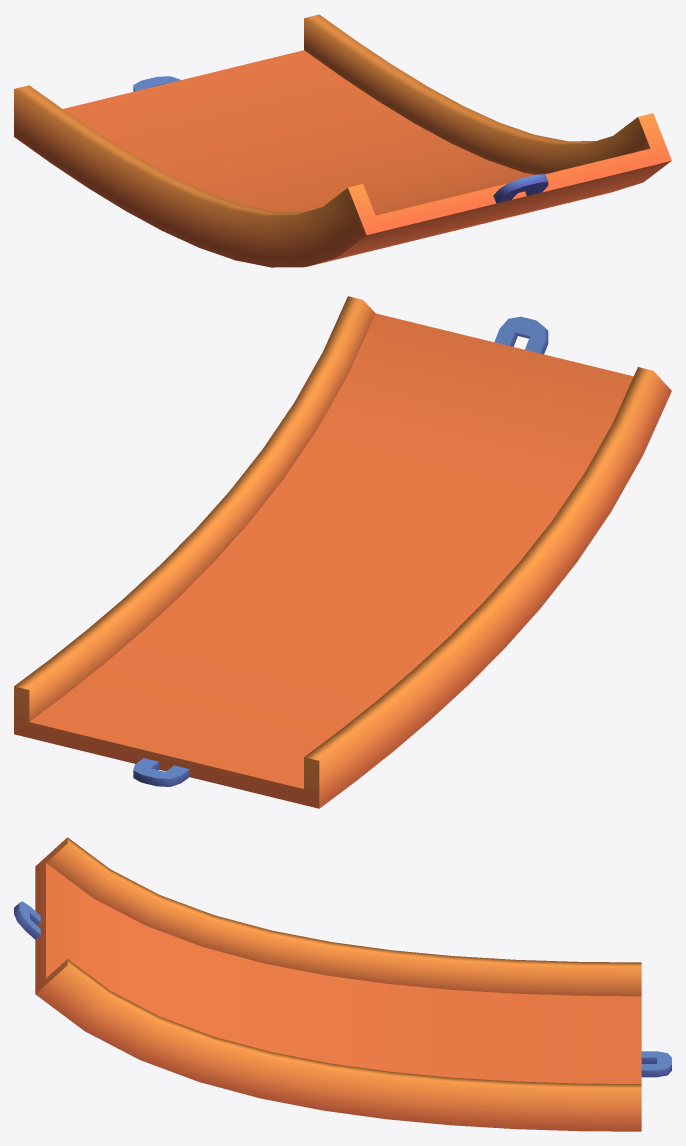
The model's file is track-wide-straight-hill-beginning.glb.
3 renders of one model, top to bottom at view 1: azimuth 30°, elevation 25°; view 2: azimuth 150°, elevation 25°; view 3: azimuth 270°, elevation 25°, orthographic. The views are drawn at different scales.
Parts seen in each view (by area): view 1: track-wide-straight-hill-beginning; view 2: track-wide-straight-hill-beginning; view 3: track-wide-straight-hill-beginning.
Boxes of the visible parts, x1=… form: track-wide-straight-hill-beginning: x1=14, y1=14, x2=671, y2=267; track-wide-straight-hill-beginning: x1=14, y1=296, x2=671, y2=808; track-wide-straight-hill-beginning: x1=14, y1=837, x2=671, y2=1131.
Size of the model in its own units: 2 by 1.21 by 4.34.
Materials: 1 (1 with a texture image).
